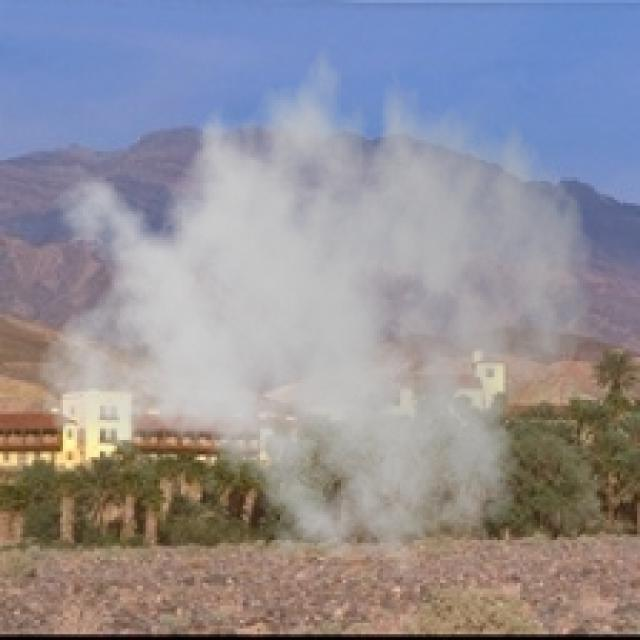Smoke: (34, 22, 594, 592)
